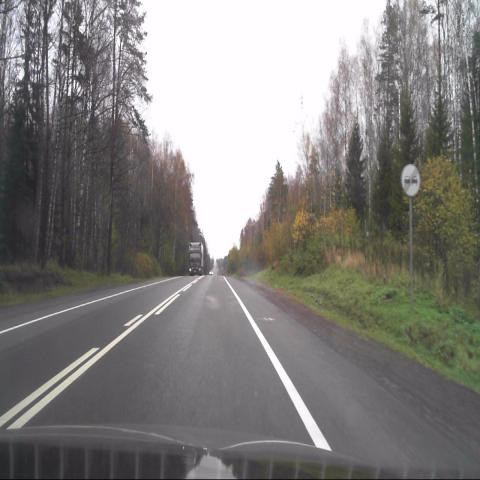3_21: (402, 164, 420, 197)
